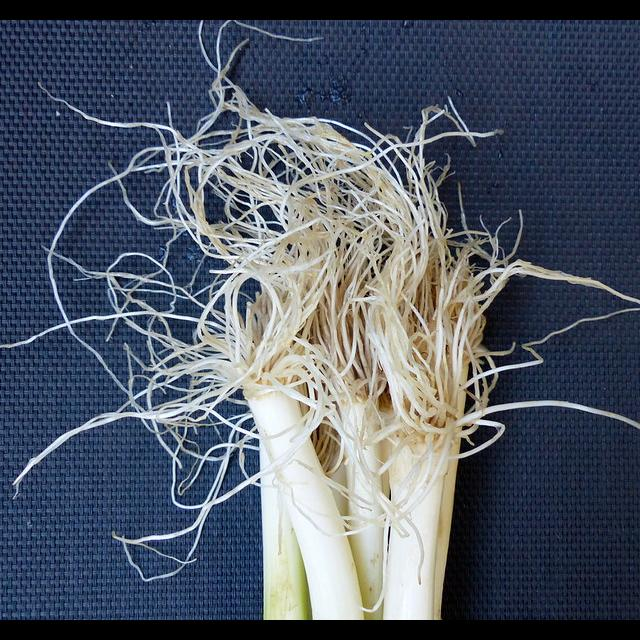green_onion: (26, 49, 640, 620)
